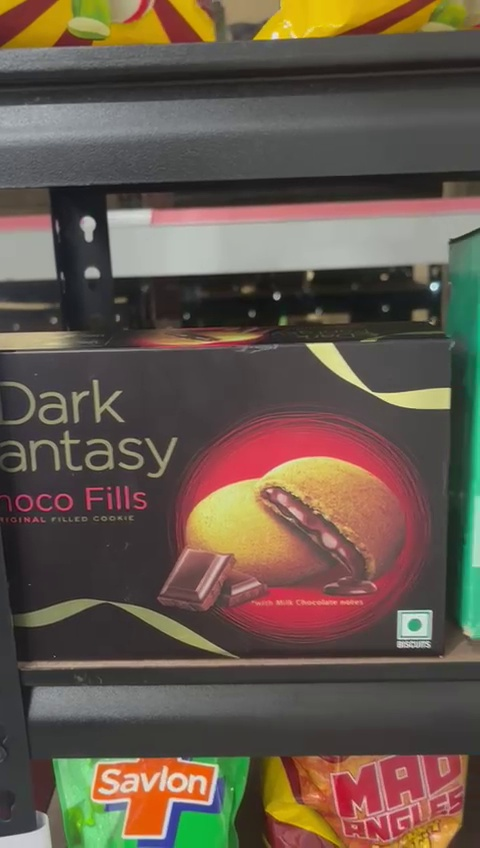Dark Fantasy: (1, 345, 448, 659)
